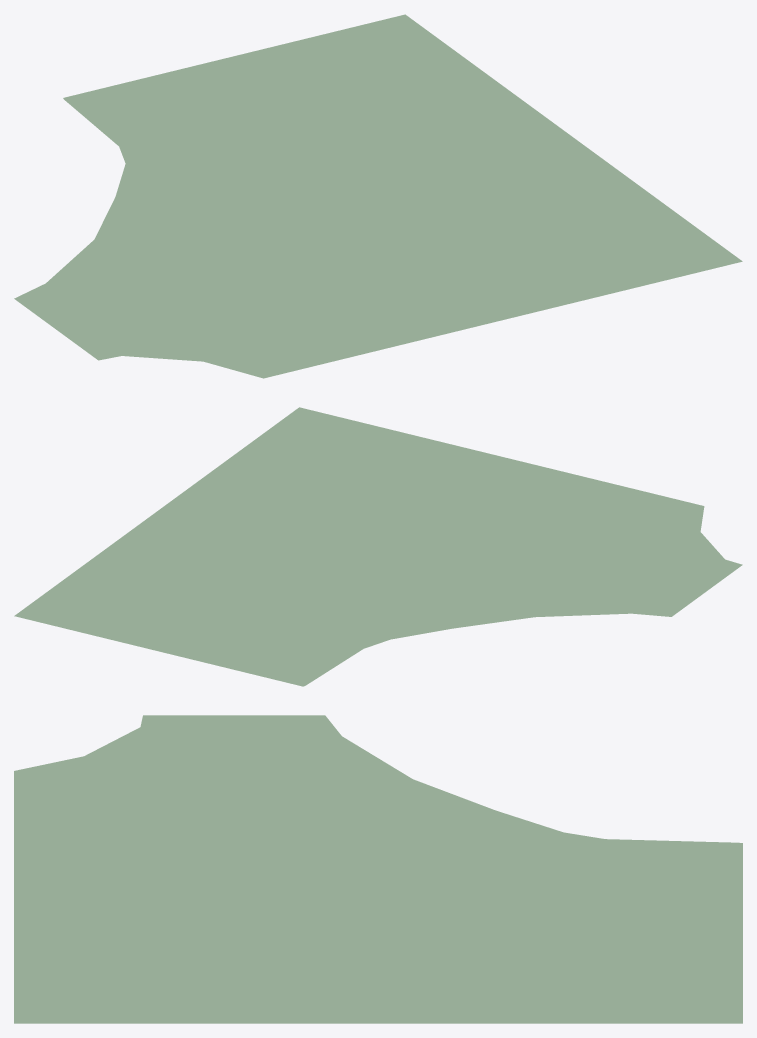
The model's file is 92_103_mid.glb.
3 renders of one model, top to bottom at view 1: azimuth 30°, elevation 25°; view 2: azimuth 150°, elevation 25°; view 3: azimuth 270°, elevation 25°, orthographic. The views are drawn at different scales.
Bounding box in the file's own units: 500 × 0 × 500.
